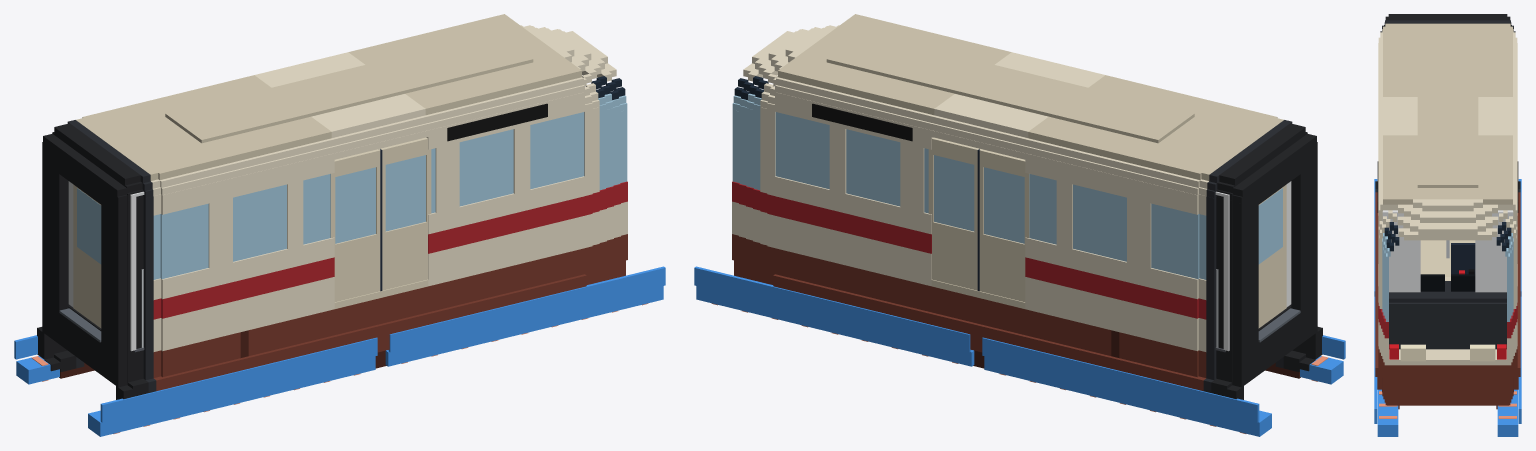
Rendered from birmingham_front.obj.
3 views of the same model, side by side, from view 1: azimuth 30°, elevation 25°; view 2: azimuth 150°, elevation 25°; view 3: azimuth 270°, elevation 25° (orthographic). The views are drawn at different scales.
Visible parts, largest first — view 1: SHELL, SHELL_diaphragm, SHELL_roof, BOGEY_REAR, BOGEY_FRONT, EXTERNAL_DOOR_3_CG_DR1_TOGGLE_TL_-0.74_X, EXTERNAL_DOOR_4_CG_DR1_TOGGLE_TL_0.74_X, CONNECTING_DOOR_1_CG_CR_TOGGLE_TL_0.98_Z, SHELL_end, SHELL_sign; view 2: SHELL, SHELL_diaphragm, SHELL_roof, BOGEY_REAR, BOGEY_FRONT, EXTERNAL_DOOR_6_CG_DL1_TOGGLE_TL_-0.74_X, EXTERNAL_DOOR_7_CG_DL1_TOGGLE_TL_0.74_X, CONNECTING_DOOR_1_CG_CR_TOGGLE_TL_0.98_Z, SHELL_end, SHELL_sign; view 3: SHELL, SHELL_roof, SHELL_desk, SHELL_cabwall, BOGEY_FRONT, HEADLIGHT_1, SHELL_cabseat, BOGEY_REAR, SHELL_lights, SHELL_sign.
Part boxes in pixels (<box>): SHELL: <box>52,14,627,396</box>; SHELL_diaphragm: <box>37,133,132,399</box>; SHELL_roof: <box>165,33,533,143</box>; BOGEY_REAR: <box>14,335,377,436</box>; BOGEY_FRONT: <box>385,266,665,366</box>; EXTERNAL_DOOR_3_CG_DR1_TOGGLE_TL_-0.74_X: <box>330,149,382,301</box>; EXTERNAL_DOOR_4_CG_DR1_TOGGLE_TL_0.74_X: <box>380,137,431,290</box>; CONNECTING_DOOR_1_CG_CR_TOGGLE_TL_0.98_Z: <box>73,184,101,328</box>; SHELL_end: <box>68,181,136,351</box>; SHELL_sign: <box>447,103,547,141</box>; SHELL: <box>732,14,1307,396</box>; SHELL_diaphragm: <box>1227,133,1322,399</box>; SHELL_roof: <box>826,33,1194,143</box>; BOGEY_REAR: <box>982,335,1345,436</box>; BOGEY_FRONT: <box>694,266,974,366</box>; EXTERNAL_DOOR_6_CG_DL1_TOGGLE_TL_-0.74_X: <box>977,149,1029,301</box>; EXTERNAL_DOOR_7_CG_DL1_TOGGLE_TL_0.74_X: <box>928,137,979,290</box>; CONNECTING_DOOR_1_CG_CR_TOGGLE_TL_0.98_Z: <box>1258,184,1286,328</box>; SHELL_end: <box>1223,181,1291,351</box>; SHELL_sign: <box>812,103,912,141</box>; SHELL: <box>1375,14,1520,409</box>; SHELL_roof: <box>1417,49,1478,187</box>; SHELL_desk: <box>1389,274,1506,349</box>; SHELL_cabwall: <box>1382,210,1513,292</box>; BOGEY_FRONT: <box>1374,296,1521,436</box>; HEADLIGHT_1: <box>1400,344,1495,361</box>; SHELL_cabseat: <box>1451,243,1475,274</box>; BOGEY_REAR: <box>1374,179,1521,296</box>; SHELL_lights: <box>1389,344,1506,359</box>; SHELL_sign: <box>1377,161,1518,212</box>.
Size of the model in its own units: 9 by 3.82 by 2.44.
1 material, 1 textured.
